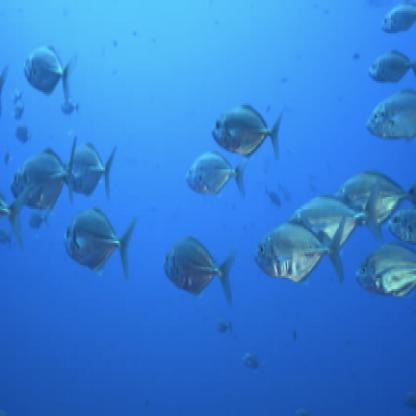jack: (250, 209, 352, 292), (56, 205, 148, 279), (160, 229, 240, 310), (208, 89, 289, 167), (6, 137, 78, 215), (180, 128, 249, 207), (20, 40, 83, 115), (66, 133, 120, 198)
